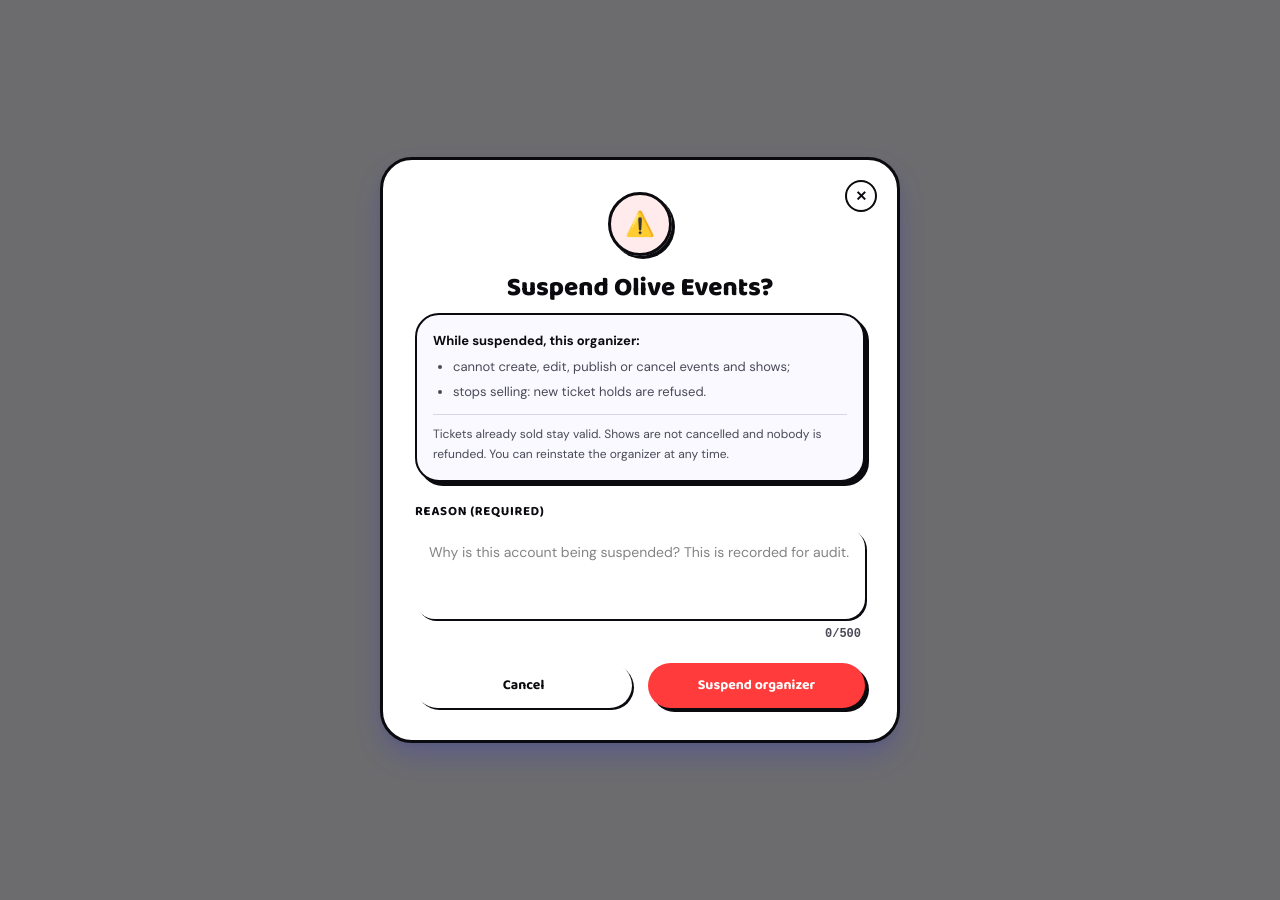
Scenario: SuspendOrganizerPopUp › refuses to submit without a reason and says why
Step 1. Click the button "Suspend organizer" → (756, 685), box [648,663,865,708]
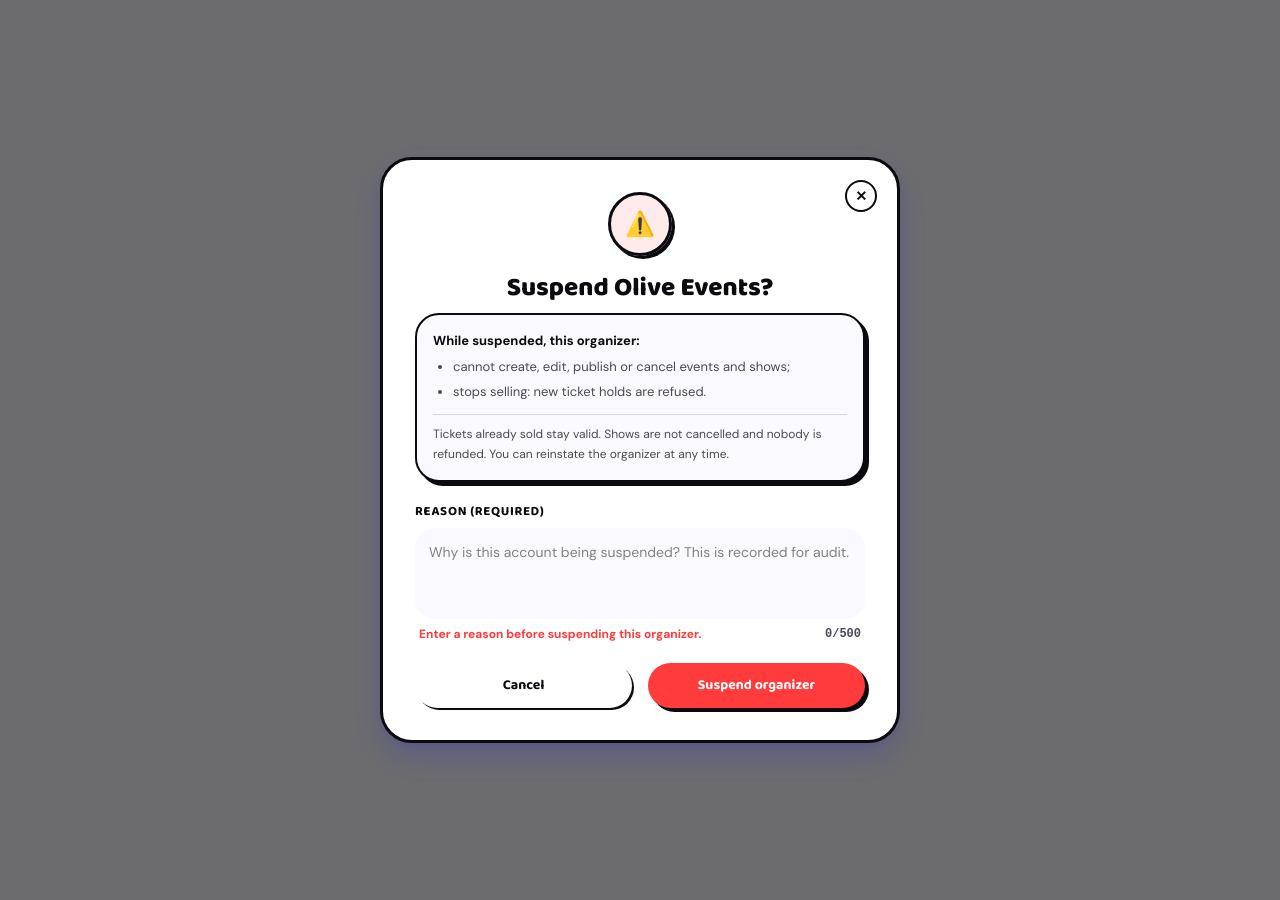
Expected: the text "Enter a reason before suspending this organizer." is shown, [419,625,702,643]
